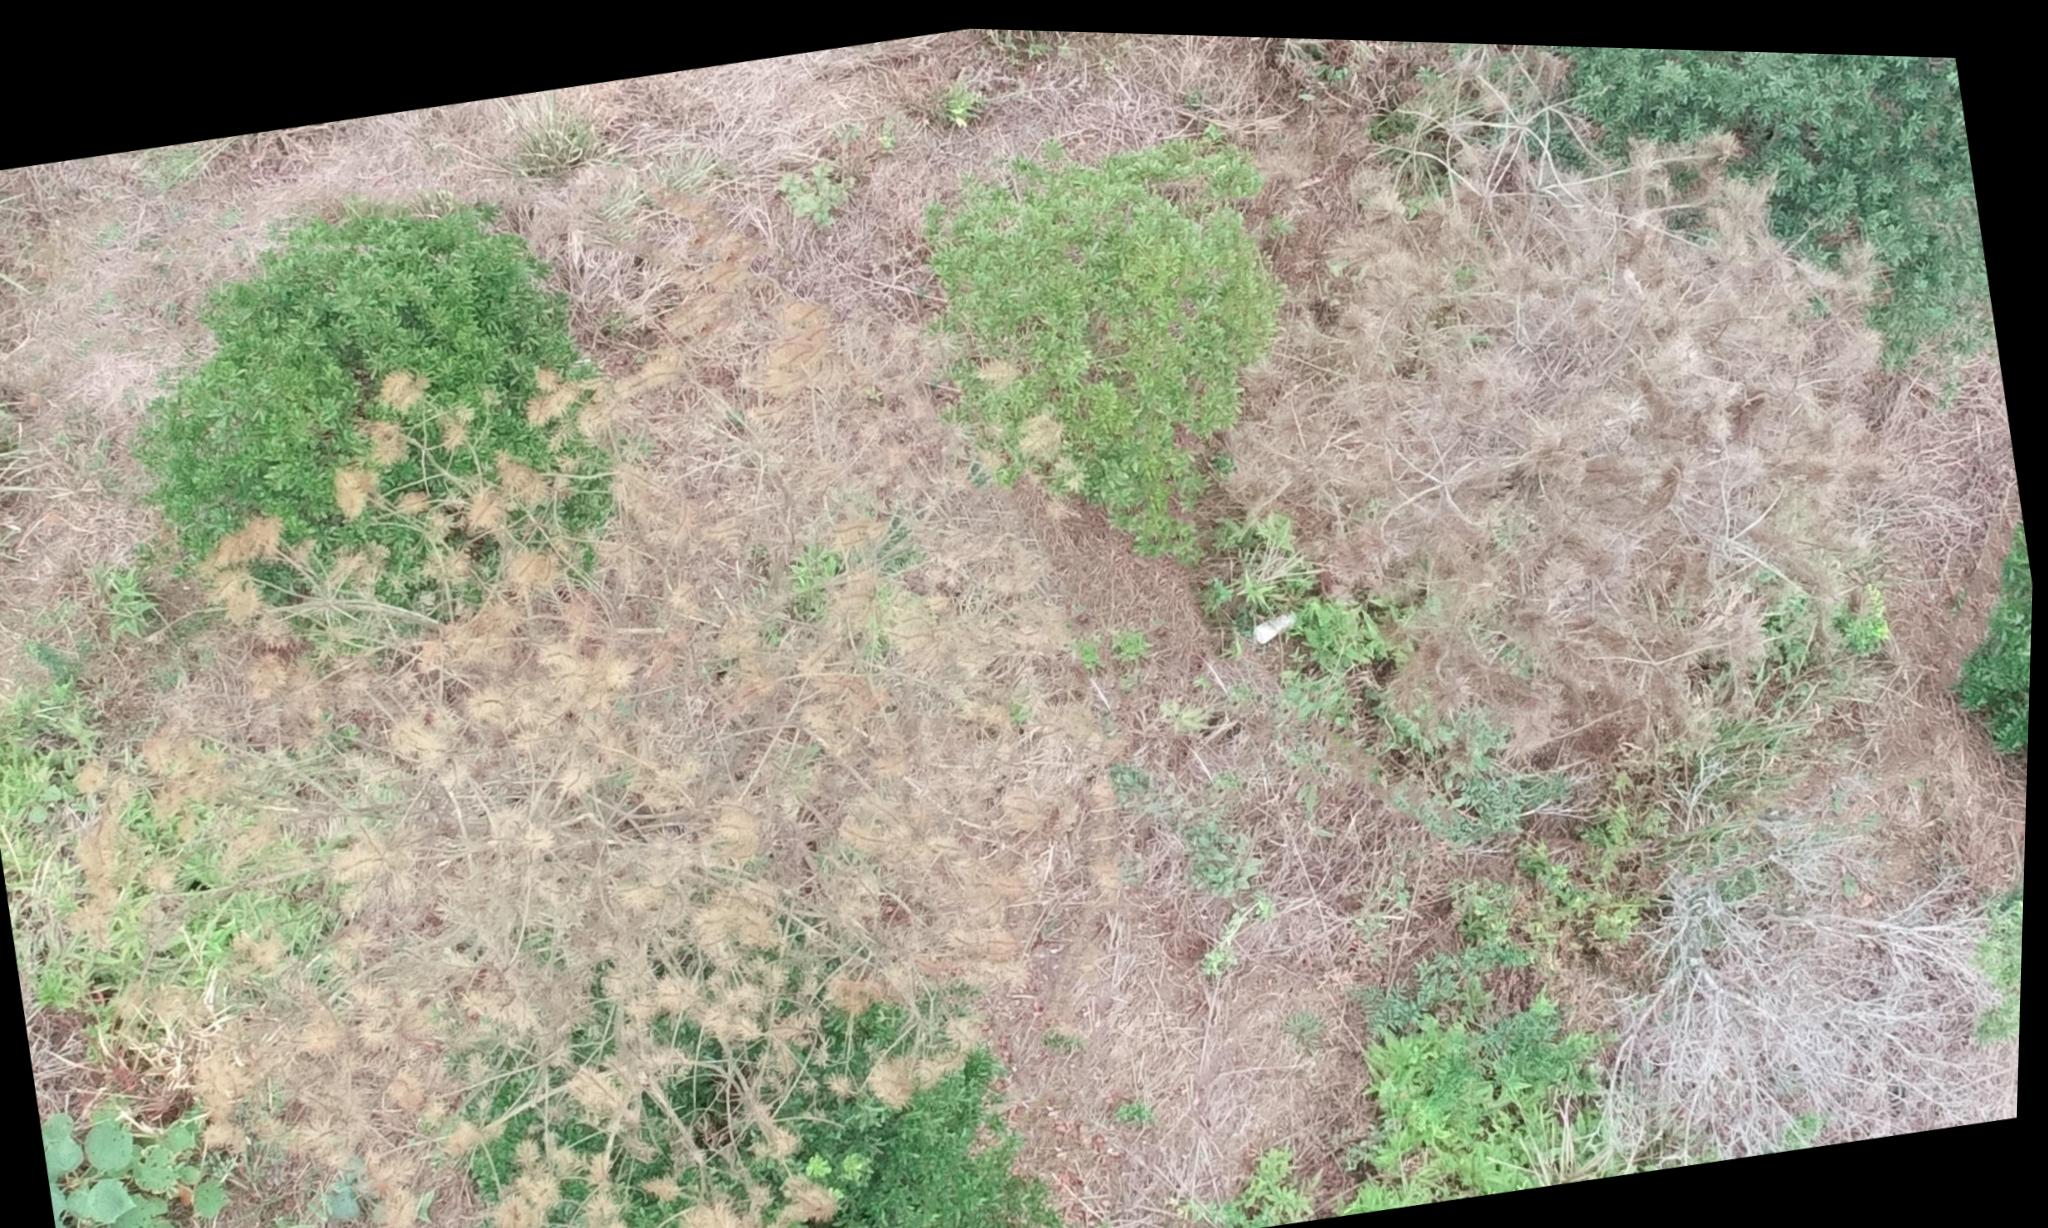dead: (1548, 756, 2003, 1167)
heavy: (35, 298, 1115, 1228), (1205, 47, 1886, 746)
